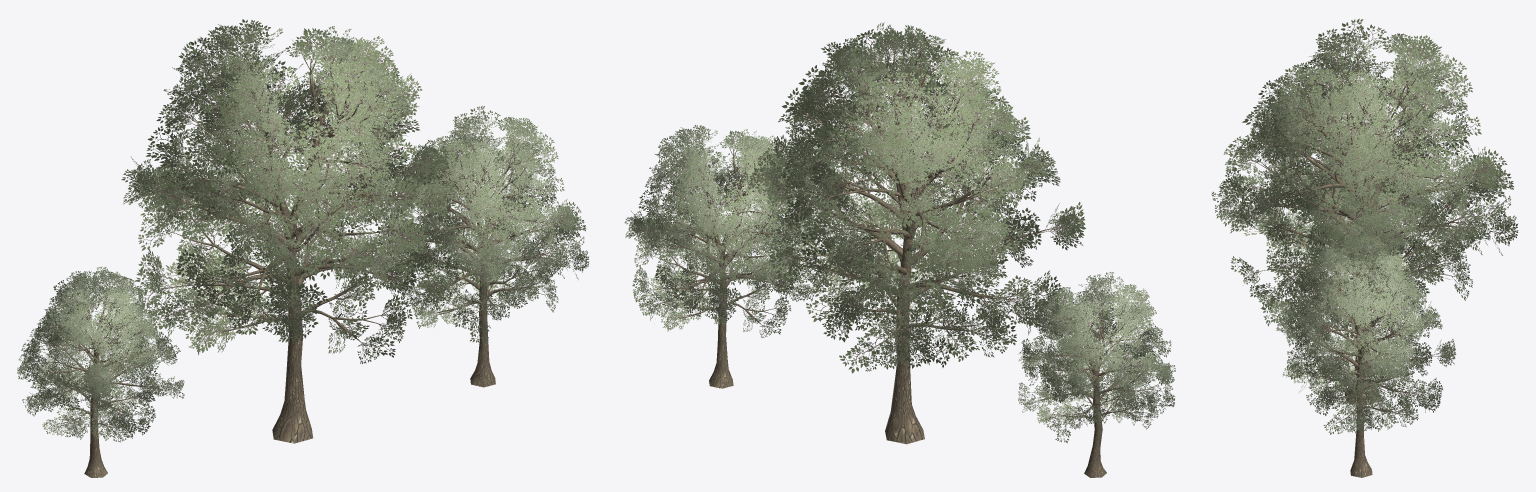
File: V2_Massive_Trees_1A1.fbx
3 views of the same model, side by side, from view 1: azimuth 30°, elevation 25°; view 2: azimuth 150°, elevation 25°; view 3: azimuth 270°, elevation 25° (orthographic). The views are drawn at different scales.
Parts seen in each view (by area): view 1: Massive_Tree_1A3, Massive_Tree_1A2, Massive_Tree_1A1; view 2: Massive_Tree_1A3, Massive_Tree_1A2, Massive_Tree_1A1; view 3: Massive_Tree_1A3, Massive_Tree_1A2, Massive_Tree_1A1.
Part boxes in pixels (box(x1,y1,x2,y2)): Massive_Tree_1A3: box(121, 19, 458, 443); Massive_Tree_1A2: box(387, 106, 589, 387); Massive_Tree_1A1: box(17, 266, 184, 477); Massive_Tree_1A3: box(748, 22, 1085, 444); Massive_Tree_1A2: box(624, 125, 817, 388); Massive_Tree_1A1: box(1018, 272, 1175, 477); Massive_Tree_1A3: box(1211, 18, 1518, 405); Massive_Tree_1A2: box(1276, 234, 1456, 477); Massive_Tree_1A1: box(1293, 128, 1436, 306).
Size of what is drawn, in the model's own units: 4300 by 3008 by 2412.
